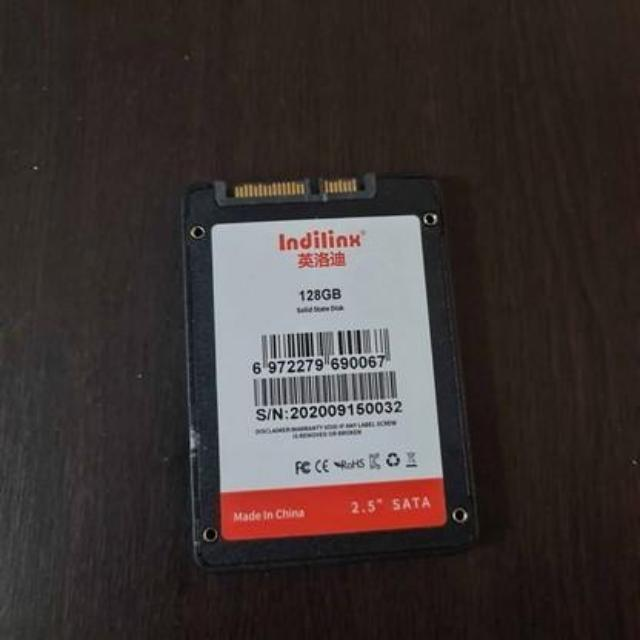DISK: (174, 166, 492, 571)
